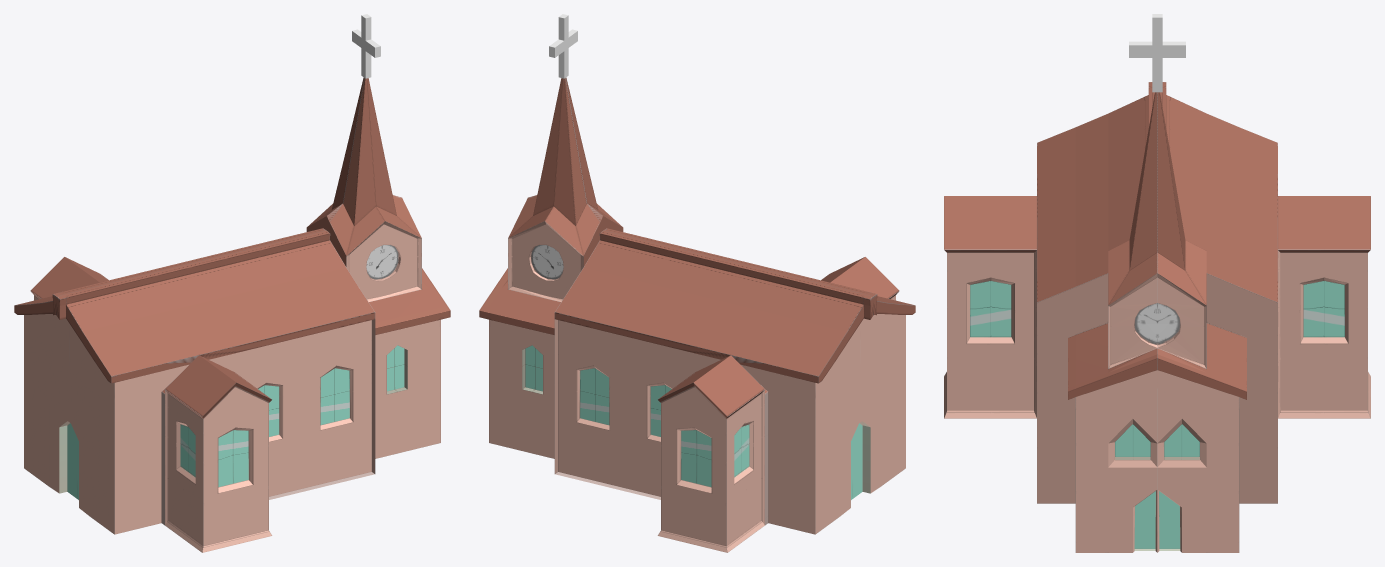
File: church_withmeterial.fbx
3 renders of one model, left to right at view 1: azimuth 30°, elevation 25°; view 2: azimuth 150°, elevation 25°; view 3: azimuth 270°, elevation 25°, orthographic. The views are drawn at different scales.
Visible parts, largest first — view 1: pCube1, pCube2; view 2: pCube1, pCube2; view 3: pCube1, pCube2.
Boxes of the visible parts, x1=… form: pCube1: x1=14, y1=77, x2=450, y2=552; pCube2: x1=352, y1=14, x2=380, y2=78; pCube1: x1=479, y1=77, x2=915, y2=552; pCube2: x1=549, y1=14, x2=577, y2=78; pCube1: x1=944, y1=82, x2=1370, y2=552; pCube2: x1=1129, y1=14, x2=1185, y2=92.
Bounding box in the file's own units: 12.78 × 14.07 × 10.63.
1 material, 1 textured.
